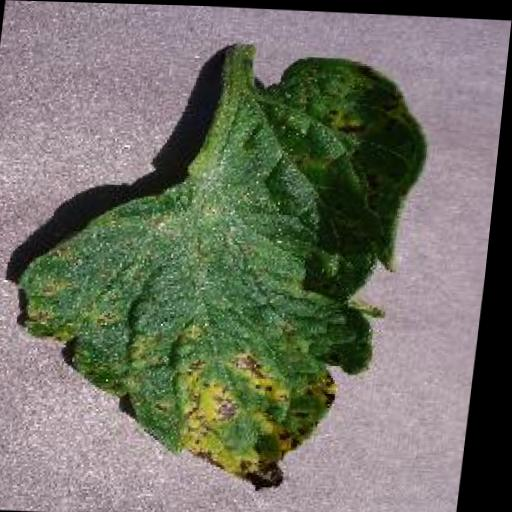Septoria: (8, 39, 438, 497)
